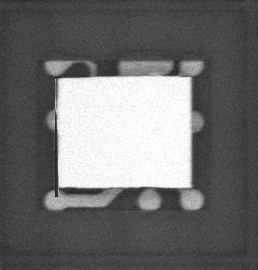DIE_BROKEN: (52, 114, 60, 197)
